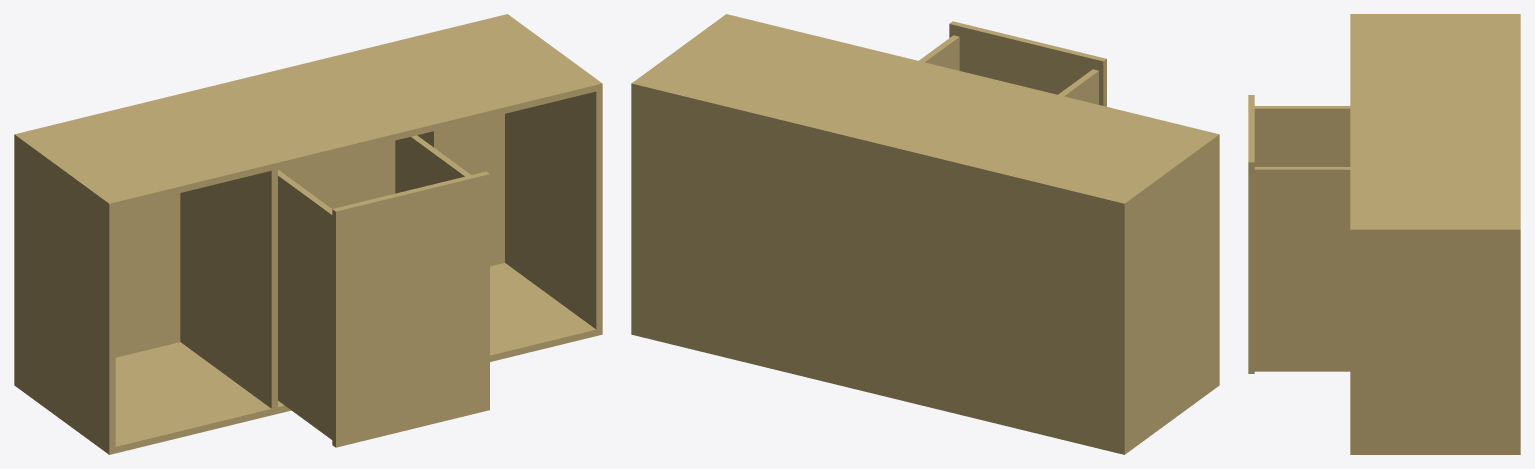
File: meuble_69130ff22a83f.glb
The picture shows the model from 3 angles, left to right: view 1: azimuth 30°, elevation 25°; view 2: azimuth 150°, elevation 25°; view 3: azimuth 270°, elevation 25°; orthographic projection. The views are drawn at different scales.
Parts seen in each view (by area): view 1: world; view 2: world; view 3: world.
Boxes of the visible parts, box(x1,y1,x2,y2) form: world: box(14, 14, 602, 454); world: box(631, 14, 1219, 454); world: box(1248, 14, 1520, 454).
Size of the model in its own units: 1.5 by 0.73 by 0.8.
